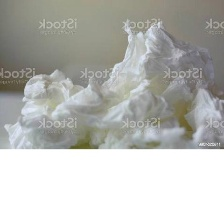tissue: (99, 13, 224, 148), (0, 64, 116, 149)
